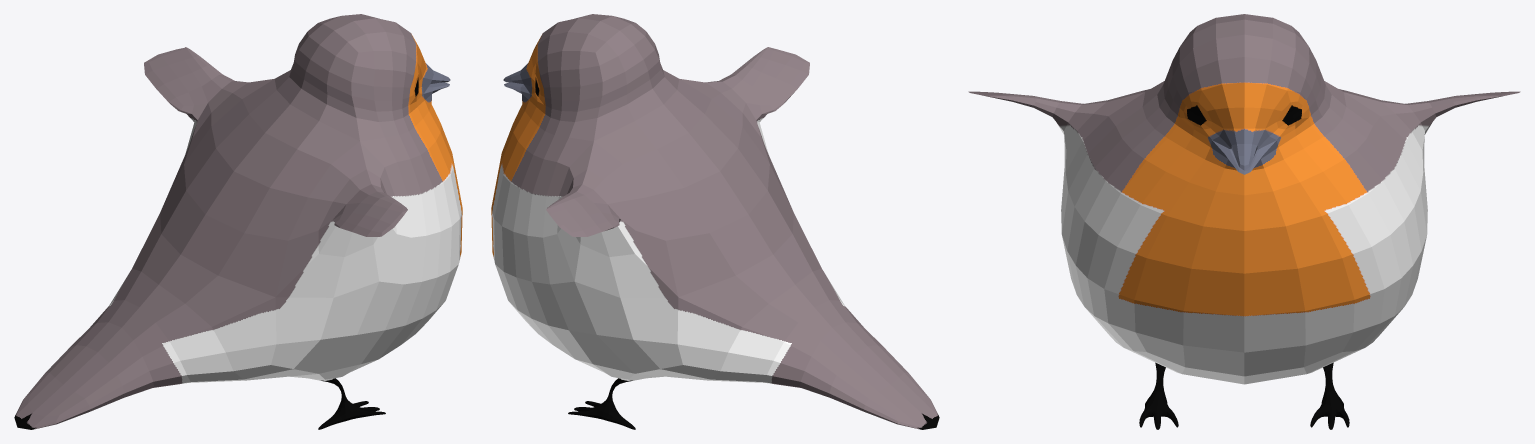
Rendered from Bird Basemesh.fbx.
3 views of the same model, side by side, from view 1: azimuth 30°, elevation 25°; view 2: azimuth 150°, elevation 25°; view 3: azimuth 270°, elevation 25° (orthographic). The views are drawn at different scales.
Visible parts, largest first — view 1: Cube; view 2: Cube; view 3: Cube.
Boxes of the visible parts, x1=… form: Cube: x1=14, y1=14, x2=462, y2=429; Cube: x1=491, y1=14, x2=939, y2=429; Cube: x1=968, y1=14, x2=1520, y2=429.
Bounding box in the file's own units: 310 × 248 × 295.
